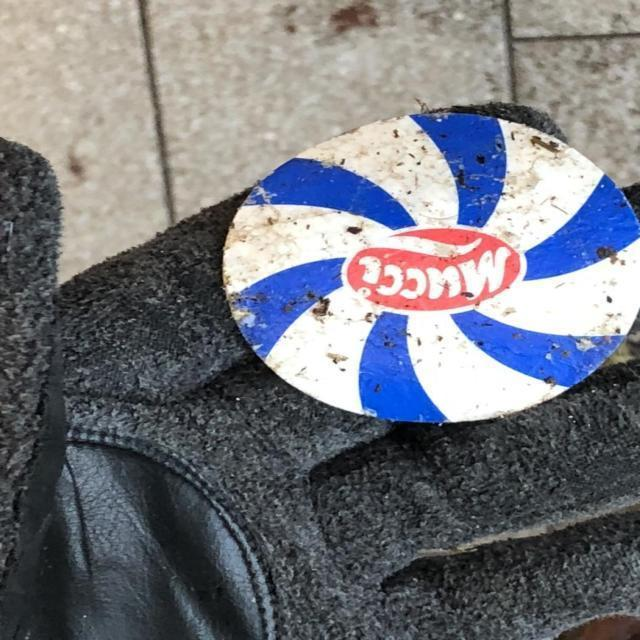Paper: (216, 105, 639, 428)
